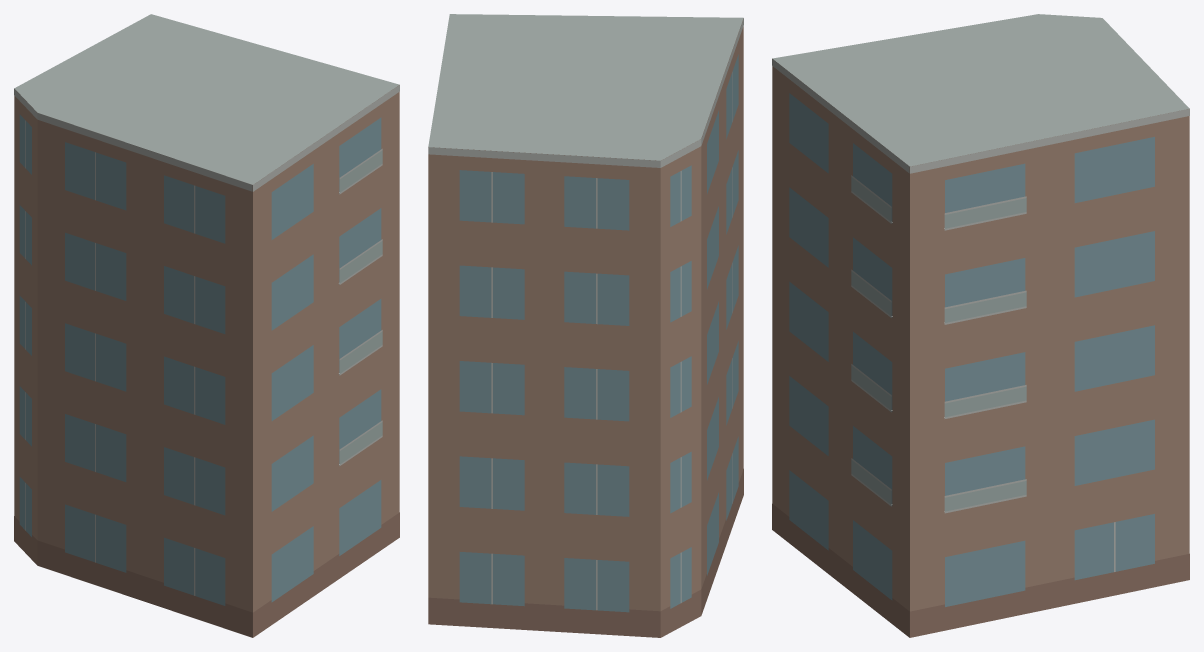
The model's file is survey-upis-32827564.glb.
The picture shows the model from 3 angles, left to right: view 1: azimuth 30°, elevation 25°; view 2: azimuth 150°, elevation 25°; view 3: azimuth 270°, elevation 25°; orthographic projection. The views are drawn at different scales.
Visible parts, largest first — view 1: survey-upis-32827564.tmp; view 2: survey-upis-32827564.tmp; view 3: survey-upis-32827564.tmp.
Part boxes in pixels (<box>): survey-upis-32827564.tmp: <box>14,14,399,637</box>; survey-upis-32827564.tmp: <box>428,14,743,637</box>; survey-upis-32827564.tmp: <box>772,14,1189,637</box>.
Size of the model in its own units: 11.05 by 15.9 by 12.78.
